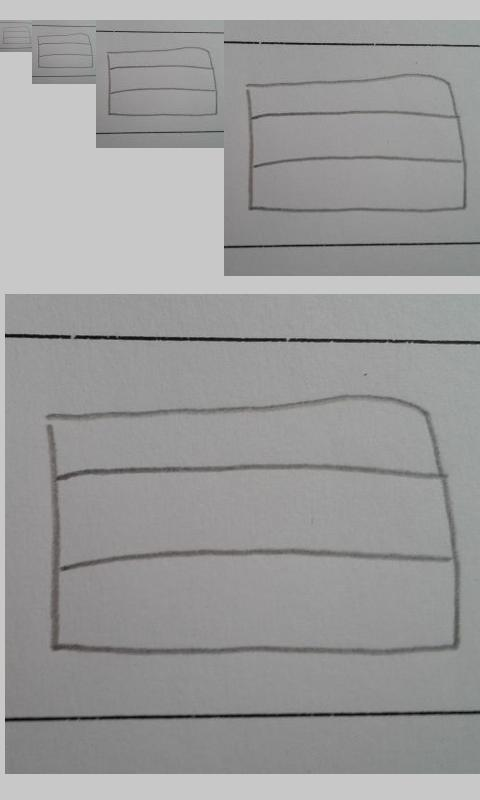list_view: (45, 391, 465, 662), (245, 72, 469, 214), (106, 45, 220, 118), (37, 32, 94, 69), (2, 25, 32, 45)
